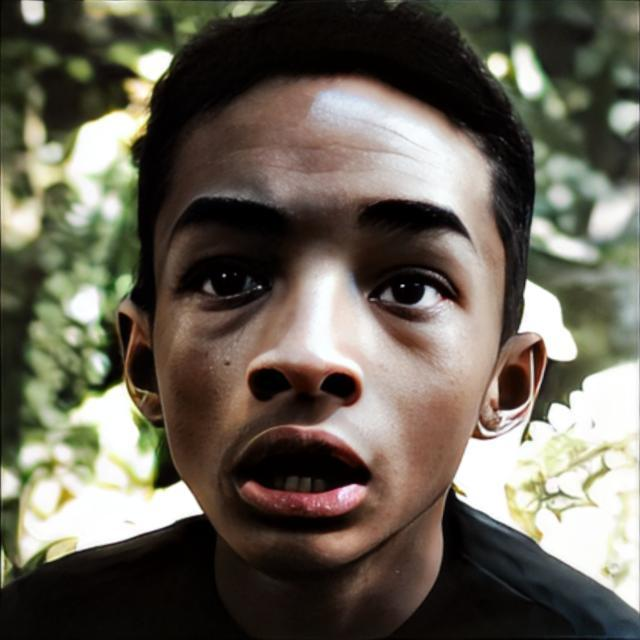surprise: (154, 74, 504, 582)
